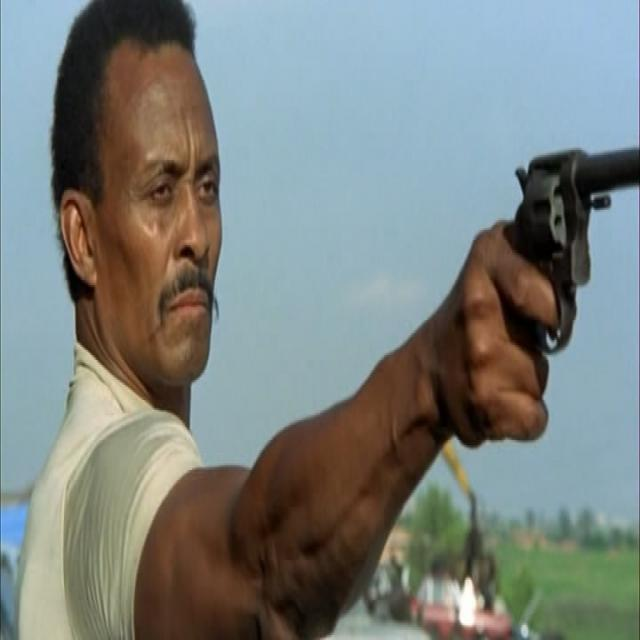gun-knife-thesis - v11 Yolov5 augmented: (453, 117, 639, 456)
